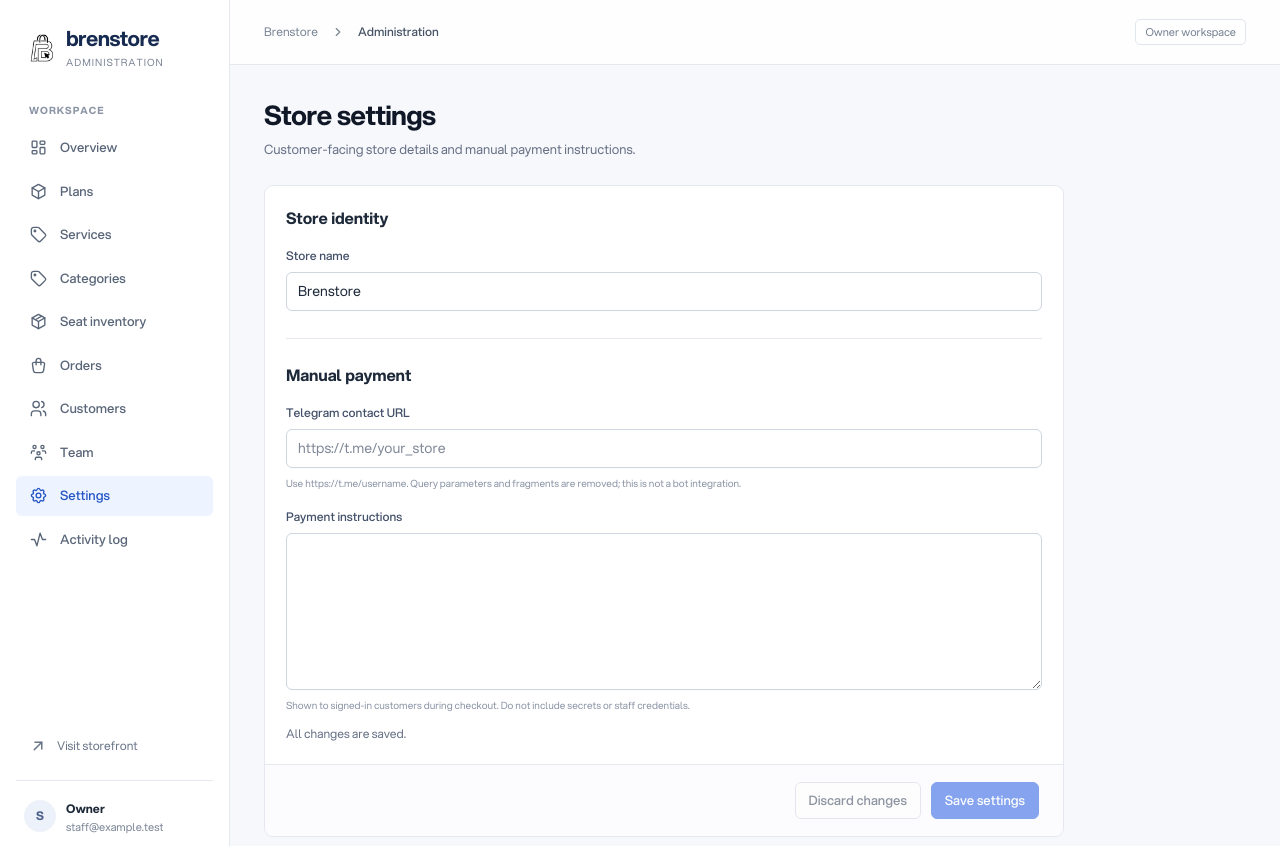
server-aligned settings and input boundaries › rejects an unsupported customer contact link before saving: https://t.me/
The image size is (1280, 846).
In the field labelled "Telegram contact URL": (664, 448) [286,429,1042,468], type "https://t.me/"
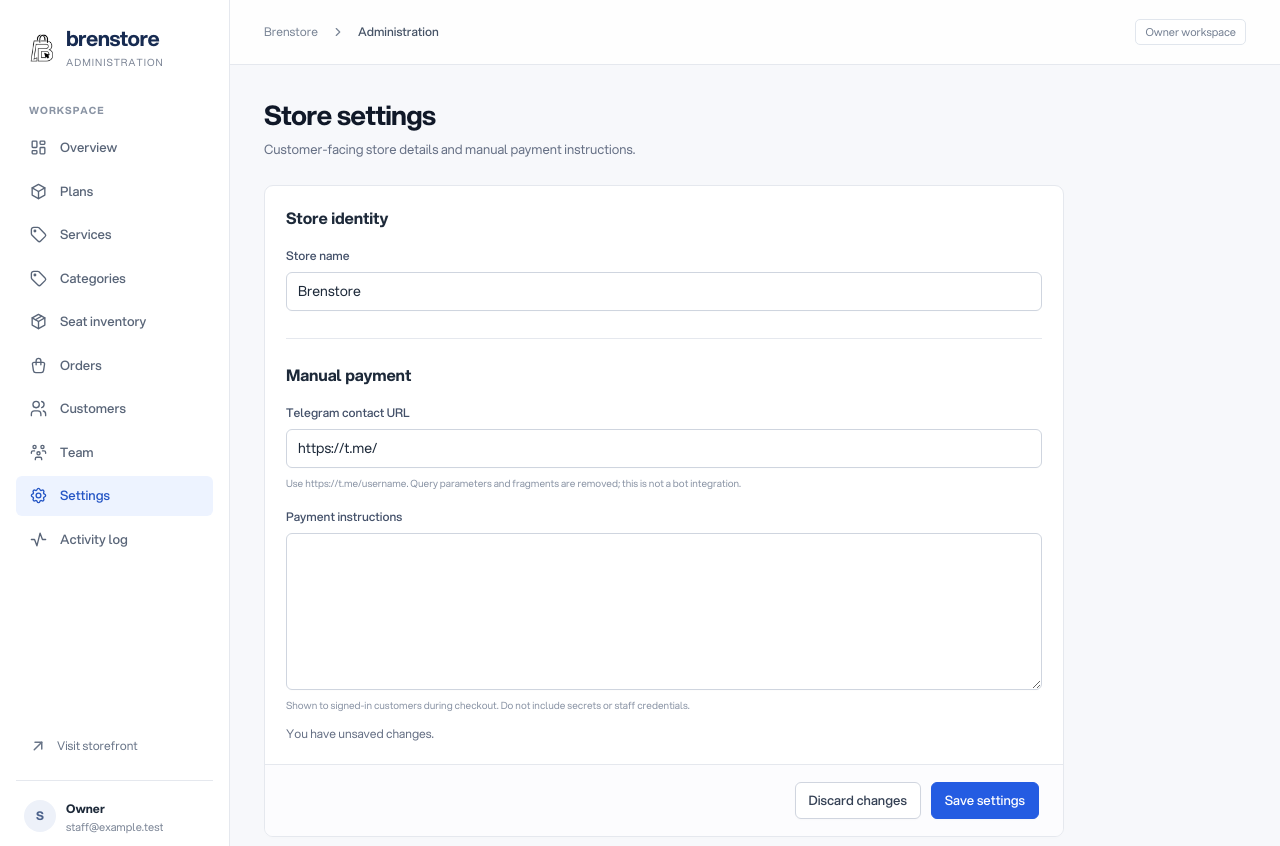
Click the button "Save settings": (985, 801) [931,782,1039,819]
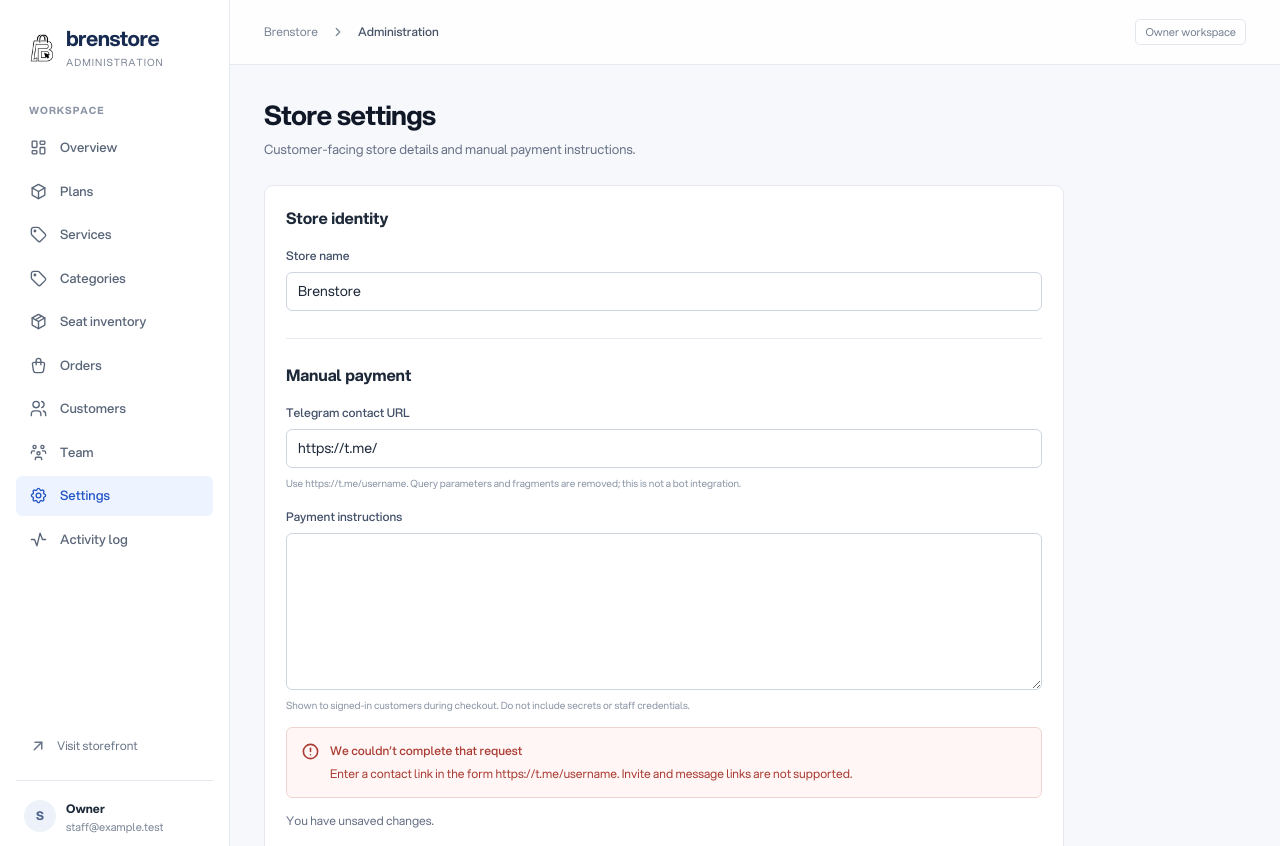
Expected: the message shows "https://t.me/username", [330,765,852,782]
